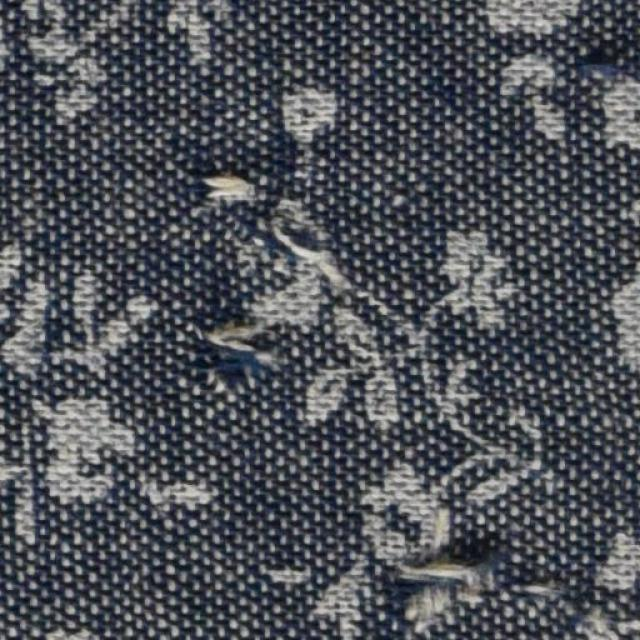Snag: (385, 547, 507, 620), (197, 311, 287, 392), (191, 162, 282, 216), (575, 46, 636, 92)
